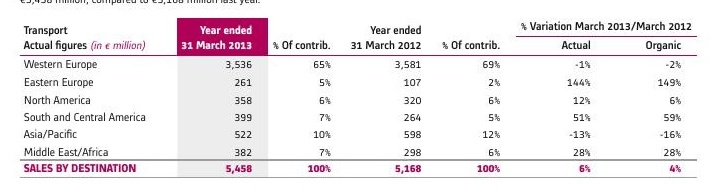table: (0, 0, 716, 191)
